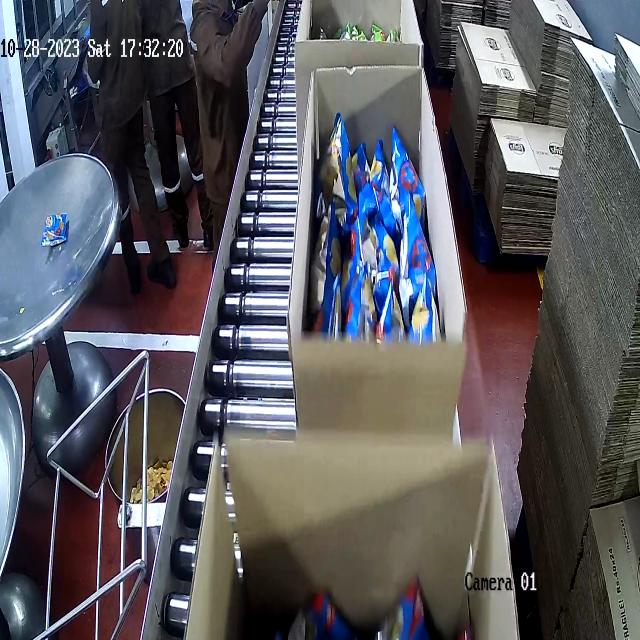PAPRIKA: (314, 120, 432, 333)
